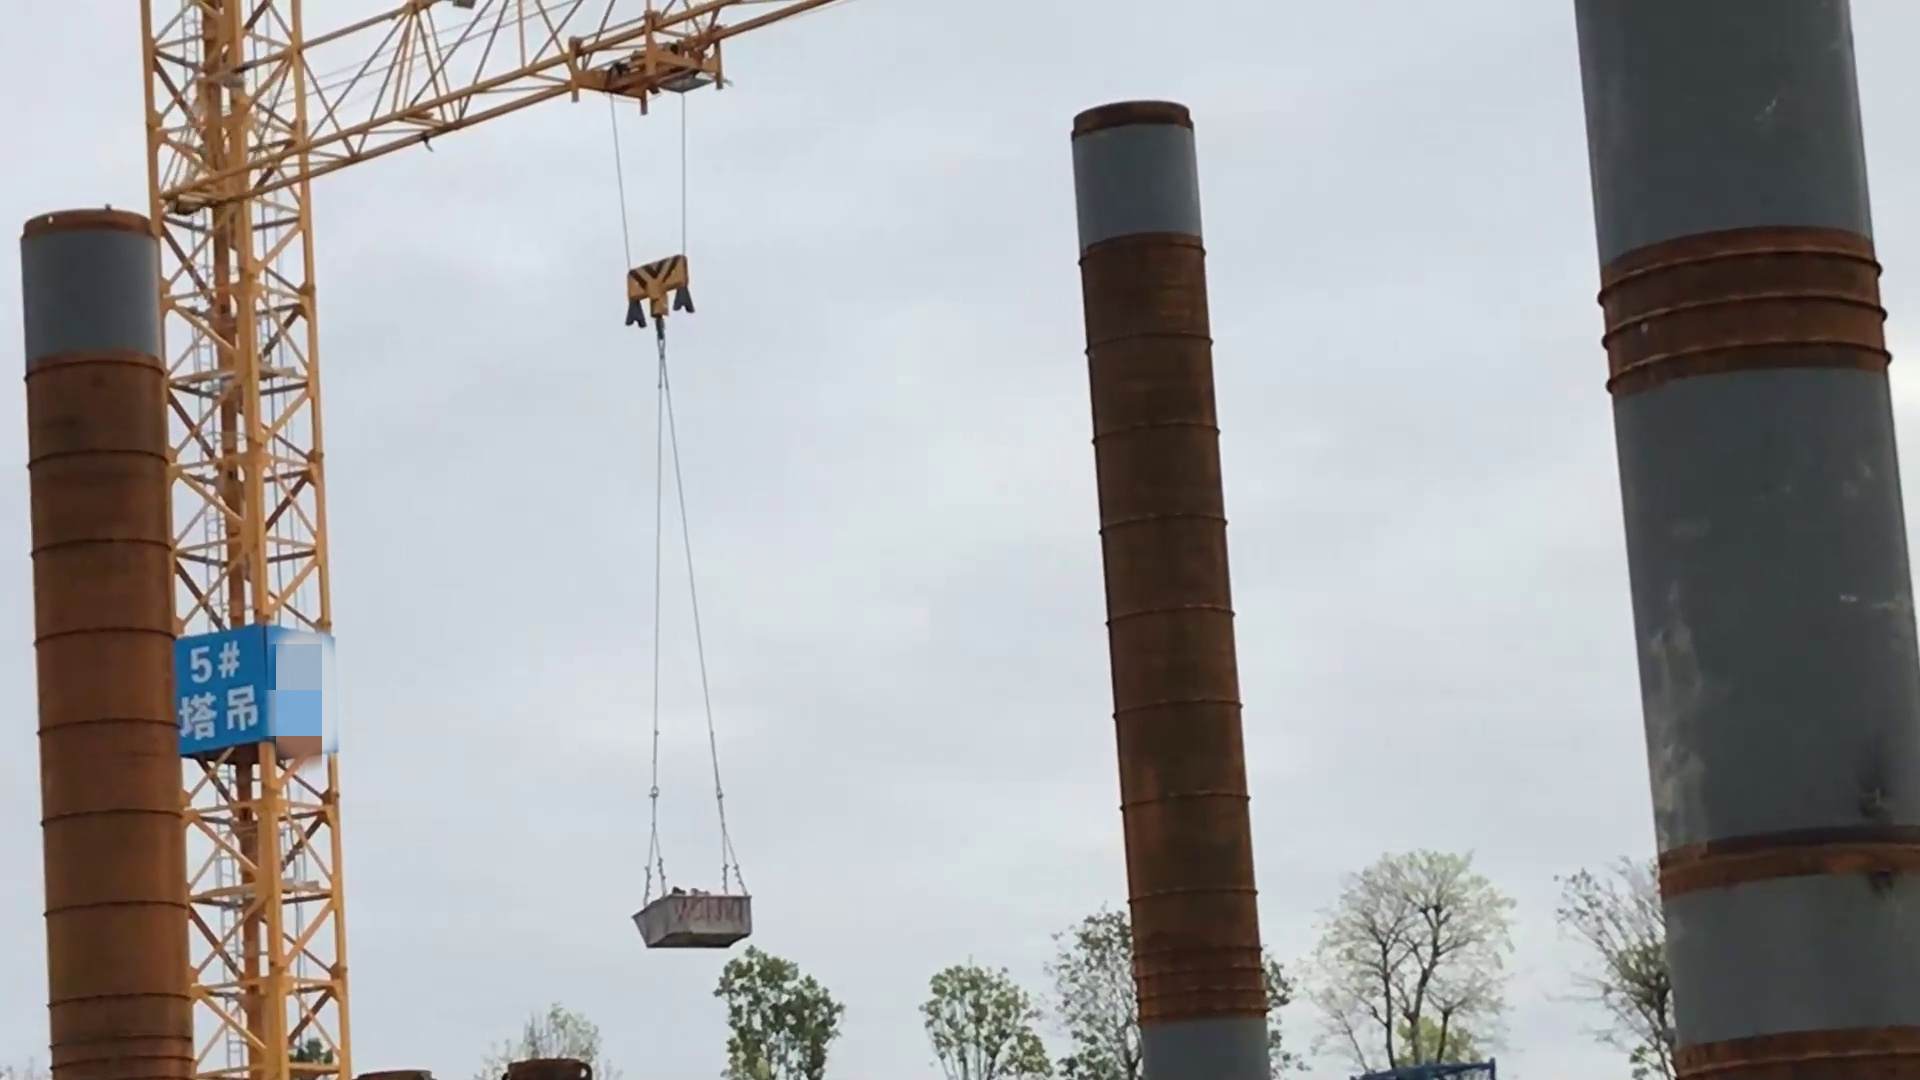hook: (628, 256, 691, 324)
hopper: (636, 891, 748, 949)
